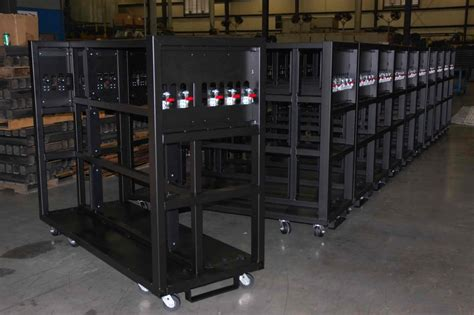Carts: (27, 38, 266, 311)
